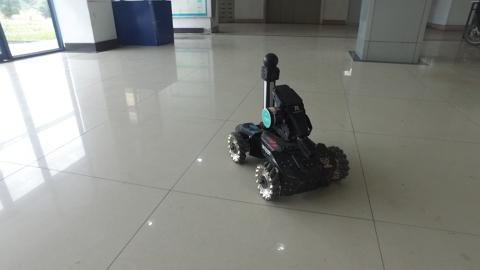chariot: (226, 51, 351, 202)
